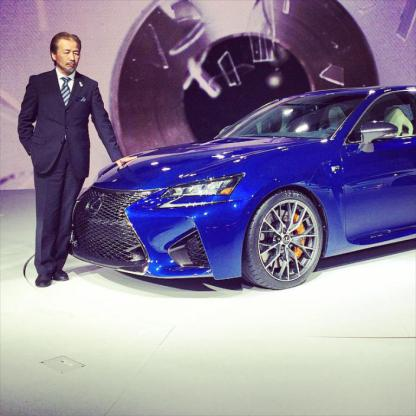Car: (69, 82, 415, 294)
